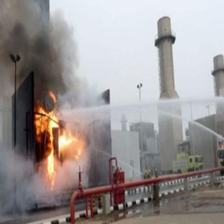fire: (30, 89, 88, 192)
